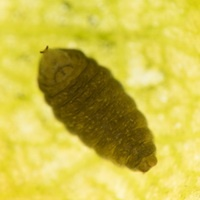insect: (38, 48, 156, 171)
